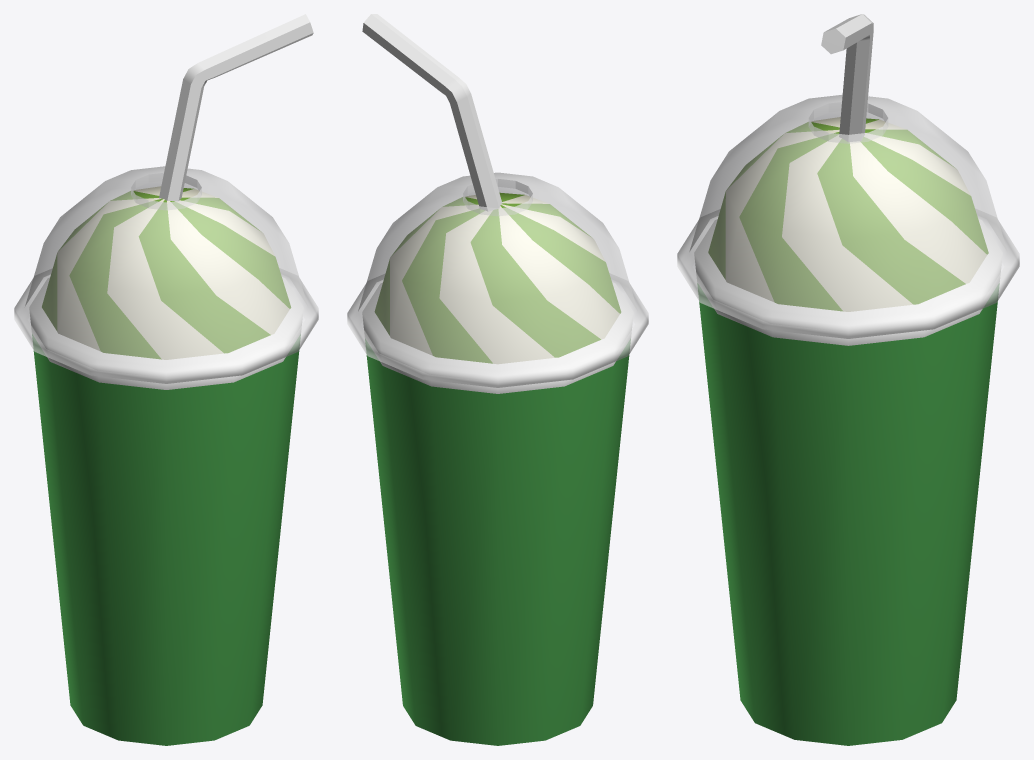
File: Smoothie.fbx
3 renders of one model, left to right at view 1: azimuth 30°, elevation 25°; view 2: azimuth 150°, elevation 25°; view 3: azimuth 270°, elevation 25°, orthographic. The views are drawn at different scales.
Parts seen in each view (by area): view 1: Smoothie; view 2: Smoothie; view 3: Smoothie.
Part boxes in pixels (x1,y1,x2,y2): Smoothie: [14, 14, 318, 745]; Smoothie: [347, 14, 648, 745]; Smoothie: [677, 14, 1019, 745].
Size of the model in its own units: 28.59 by 66.77 by 27.79.
